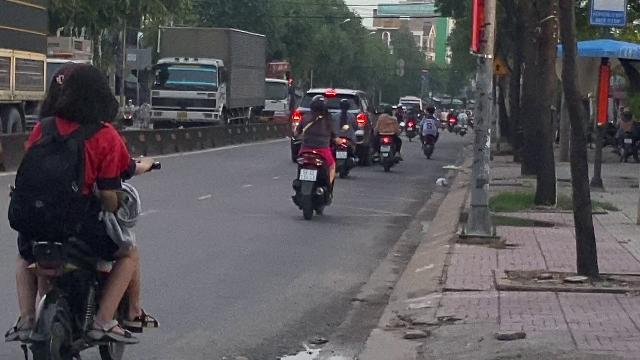helmet: (306, 93, 330, 114)
licenseplate: (300, 168, 316, 182)
motorcyclist: (6, 60, 162, 360), (290, 92, 338, 219)
nohelmet: (59, 62, 120, 130)
